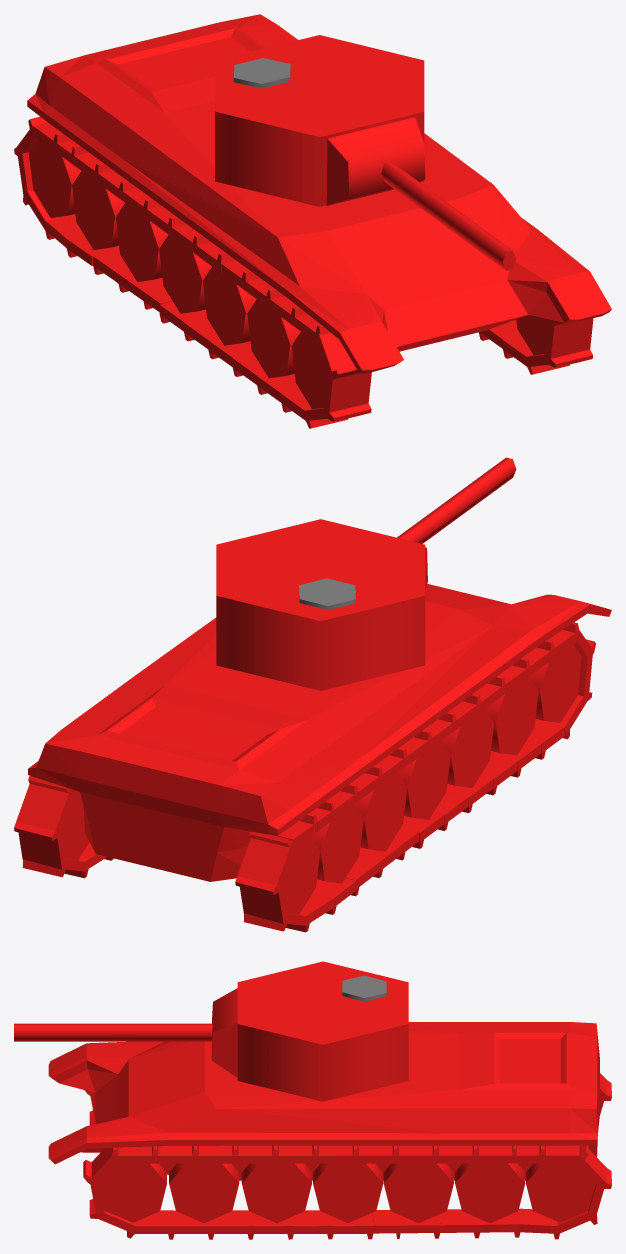
The model's file is Tank Enemy.fbx.
3 views of the same model, one above another, from view 1: azimuth 30°, elevation 25°; view 2: azimuth 150°, elevation 25°; view 3: azimuth 270°, elevation 25° (orthographic). The views are drawn at different scales.
Visible parts, largest first — view 1: Chasis, Cylinder041, Cylinder039, Cylinder028, Cylinder027, Cylinder038, Cylinder037, Box097, Cylinder036, Box076, Cylinder035, Box096 (+17 smaller); view 2: Chasis, Cylinder041, Cylinder039, Cylinder037, Cylinder027, Cylinder038, Cylinder036, Box095, Box074, Box086, Box107, Cylinder035 (+9 smaller); view 3: Chasis, Cylinder041, Track2, Cylinder032, Cylinder027, Cylinder030, Cylinder031, Cylinder029, Cylinder028, Cylinder035, Box082, Box080 (+18 smaller).
Boxes of the visible parts, left/top/right/bottom form: Chasis: left=27, top=14, right=611, bottom=373; Cylinder041: left=215, top=35, right=424, bottom=206; Cylinder039: left=28, top=139, right=211, bottom=313; Cylinder028: left=326, top=117, right=425, bottom=205; Cylinder027: left=381, top=161, right=515, bottom=270; Cylinder038: left=202, top=266, right=256, bottom=345; Cylinder037: left=247, top=299, right=300, bottom=378; Box097: left=323, top=372, right=371, bottom=421; Cylinder036: left=291, top=332, right=327, bottom=408; Box076: left=545, top=318, right=593, bottom=367; Cylinder035: left=233, top=58, right=290, bottom=88; Box096: left=317, top=332, right=359, bottom=381; Chasis: left=28, top=584, right=611, bottom=881; Cylinder041: left=216, top=519, right=425, bottom=690; Cylinder039: left=283, top=729, right=450, bottom=914; Cylinder037: left=485, top=676, right=538, bottom=755; Cylinder027: left=397, top=457, right=516, bottom=543; Cylinder038: left=441, top=709, right=493, bottom=787; Cylinder036: left=529, top=644, right=581, bottom=722; Box095: left=237, top=831, right=295, bottom=885; Box074: left=16, top=775, right=74, bottom=831; Box086: left=14, top=821, right=66, bottom=869; Box107: left=235, top=876, right=287, bottom=923; Cylinder035: left=299, top=578, right=355, bottom=609; Chasis: left=48, top=1022, right=599, bottom=1180; Cylinder041: left=237, top=961, right=408, bottom=1101; Track2: left=313, top=1163, right=525, bottom=1223; Cylinder032: left=352, top=1145, right=595, bottom=1238; Cylinder027: left=14, top=1023, right=212, bottom=1041; Cylinder030: left=169, top=1150, right=239, bottom=1223; Cylinder031: left=241, top=1163, right=311, bottom=1223; Cylinder029: left=99, top=1163, right=166, bottom=1222; Cylinder028: left=211, top=988, right=237, bottom=1077; Cylinder035: left=342, top=975, right=386, bottom=1001; Box082: left=293, top=1210, right=333, bottom=1239; Box080: left=214, top=1210, right=253, bottom=1239.
Size of the model in its own units: 49.77 by 41.5 by 119.
